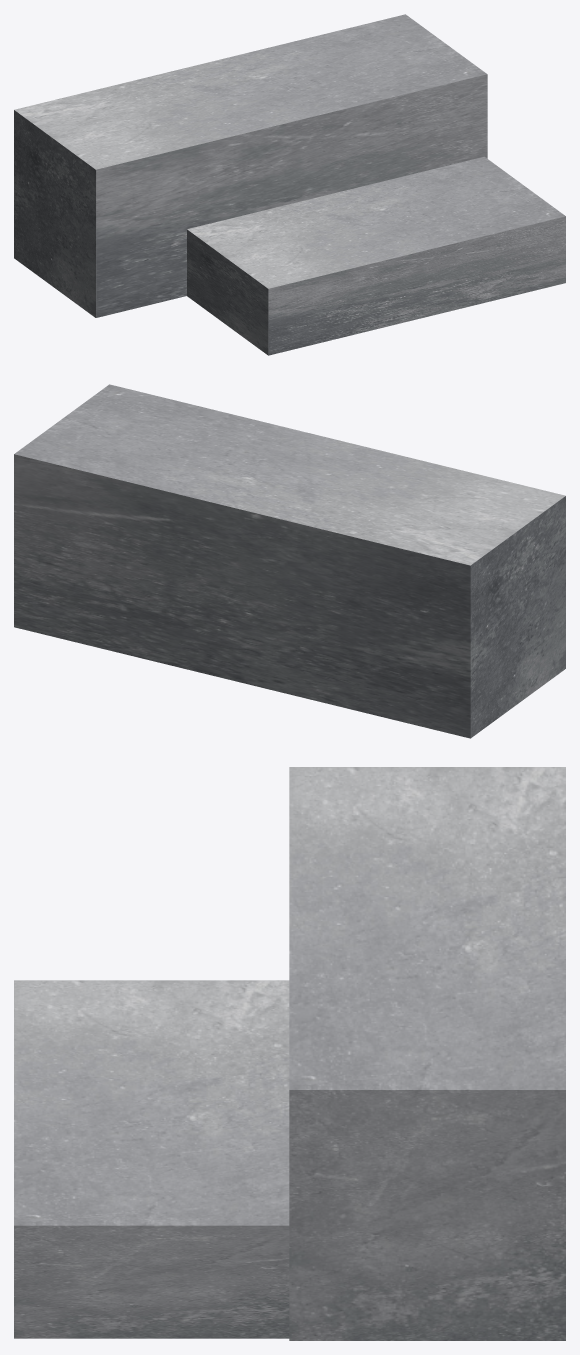
Rendered from pedraspular1.fbx.
The picture shows the model from 3 angles, top to bottom: view 1: azimuth 30°, elevation 25°; view 2: azimuth 150°, elevation 25°; view 3: azimuth 270°, elevation 25°; orthographic projection. The views are drawn at different scales.
Visible parts, largest first — view 1: Cube; view 2: Cube; view 3: Cube.
Boxes of the visible parts, x1,y1,x2,y2 form: Cube: [14, 14, 565, 355]; Cube: [14, 384, 565, 738]; Cube: [14, 767, 565, 1340].
Bounding box in the file's own units: 552 × 200 × 399.
1 material, 1 textured.
